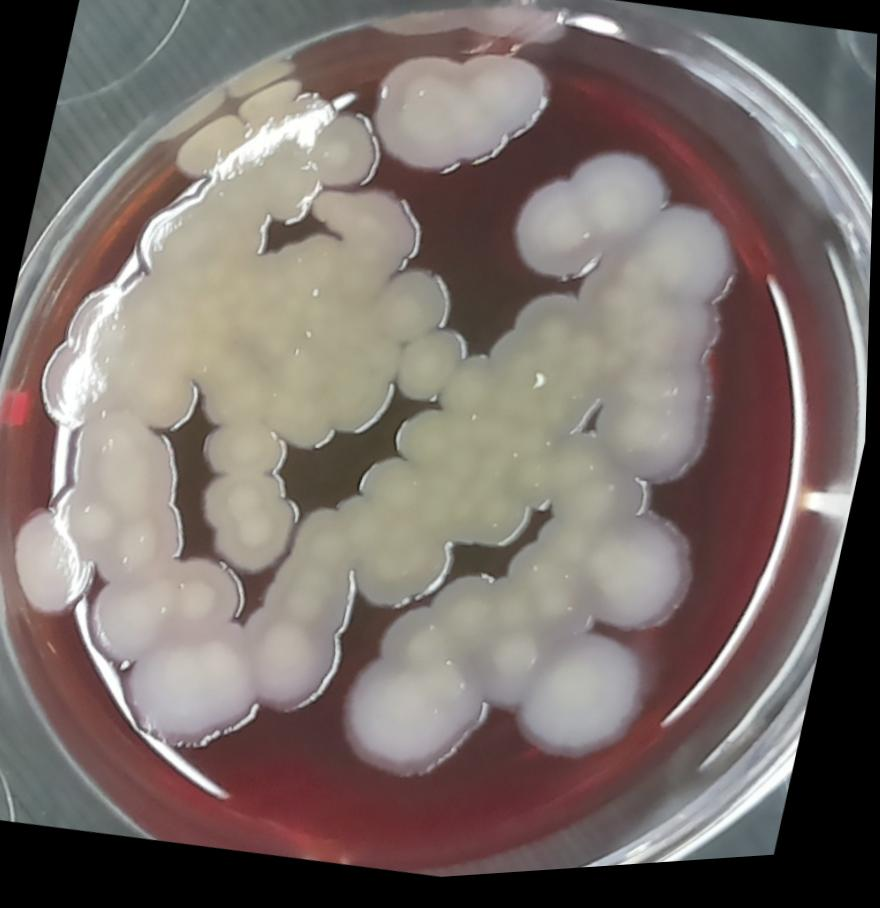bcereus: (538, 183, 769, 517), (346, 12, 572, 209), (238, 491, 385, 727), (490, 137, 680, 311), (103, 614, 272, 773), (328, 654, 502, 806), (505, 620, 663, 783), (561, 498, 719, 653), (335, 501, 474, 640), (182, 466, 315, 588), (0, 493, 108, 623), (385, 317, 484, 427)
